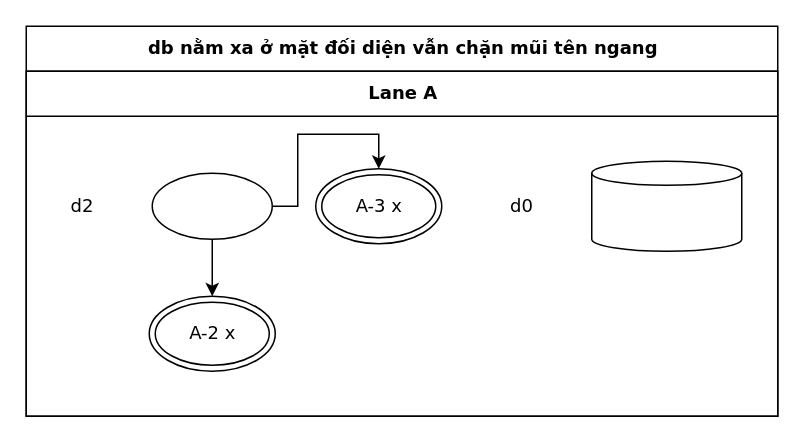
The diagram is 804 pixels wide and 443 high, and some of its shapes have lost their labels. Each missing label, with the box of its shape:
A-1 x: (151, 172, 272, 239)
d1: (590, 160, 742, 251)
